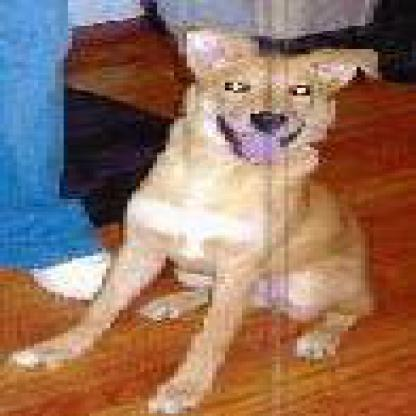dog: (90, 34, 396, 368)
